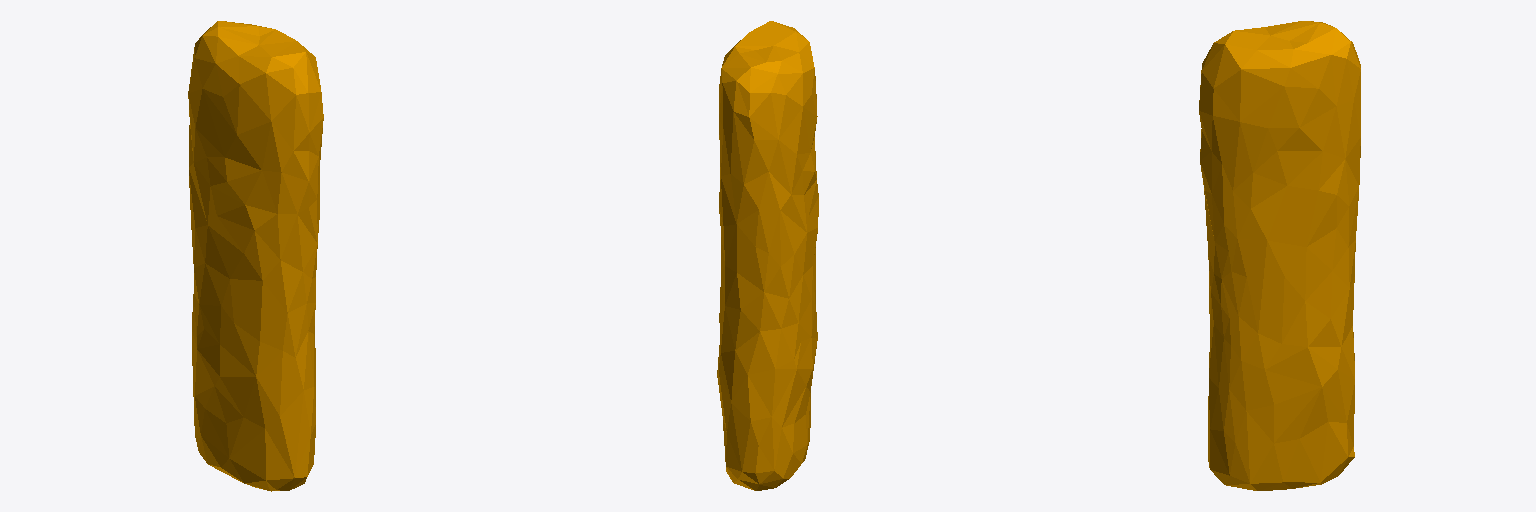
The robot description file, URDF, robot "suave_sweet_guava_nectar_body_wash":
<?xml version="1.0"?>
<robot name="suave_sweet_guava_nectar_body_wash">
  <link name="base_link">
    <contact>
      <lateral_friction value="1.0"/>
      <rolling_friction value="0.0"/>
      <contact_cfm value="0.0"/>
      <contact_erp value="1.0"/>
    </contact>
    <inertial>
      <mass value="0.280893672716"/>
      <inertia ixx="1" ixy="0" ixz="0" iyy="1" iyz="0" izz="1"/>
    </inertial>
    <visual>
      <geometry>
        <mesh filename="suave_sweet_guava_nectar_body_wash_visual.obj"/>
      </geometry>
    </visual>
    <collision>
      <geometry>
        <mesh filename="suave_sweet_guava_nectar_body_wash_collision.obj"/>
      </geometry>
    </collision>
  </link>
</robot>

--- Render facts (derived) ---
3 views of the same robot in one strip: view 1: azimuth 30°, elevation 25°; view 2: azimuth 150°, elevation 25°; view 3: azimuth 270°, elevation 25° (orthographic).
Robot: suave_sweet_guava_nectar_body_wash — 1 links, 0 joints (none); root link base_link; default pose: every joint at zero.
Visible links, largest first — view 1: base_link; view 2: base_link; view 3: base_link.
Boxes of the visible links, <box> form: base_link: <box>188,21,323,491</box>; base_link: <box>717,21,818,490</box>; base_link: <box>1199,21,1360,490</box>.
Bounding box of the posed robot: 0.0446 × 0.0683 × 0.2084 m (x, y, z).
1 mesh visuals loaded from 1 distinct referenced files (1 OBJ).